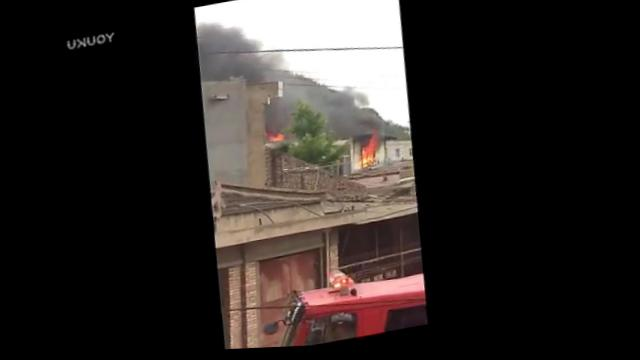fire: (362, 136, 381, 169), (268, 131, 286, 145)
